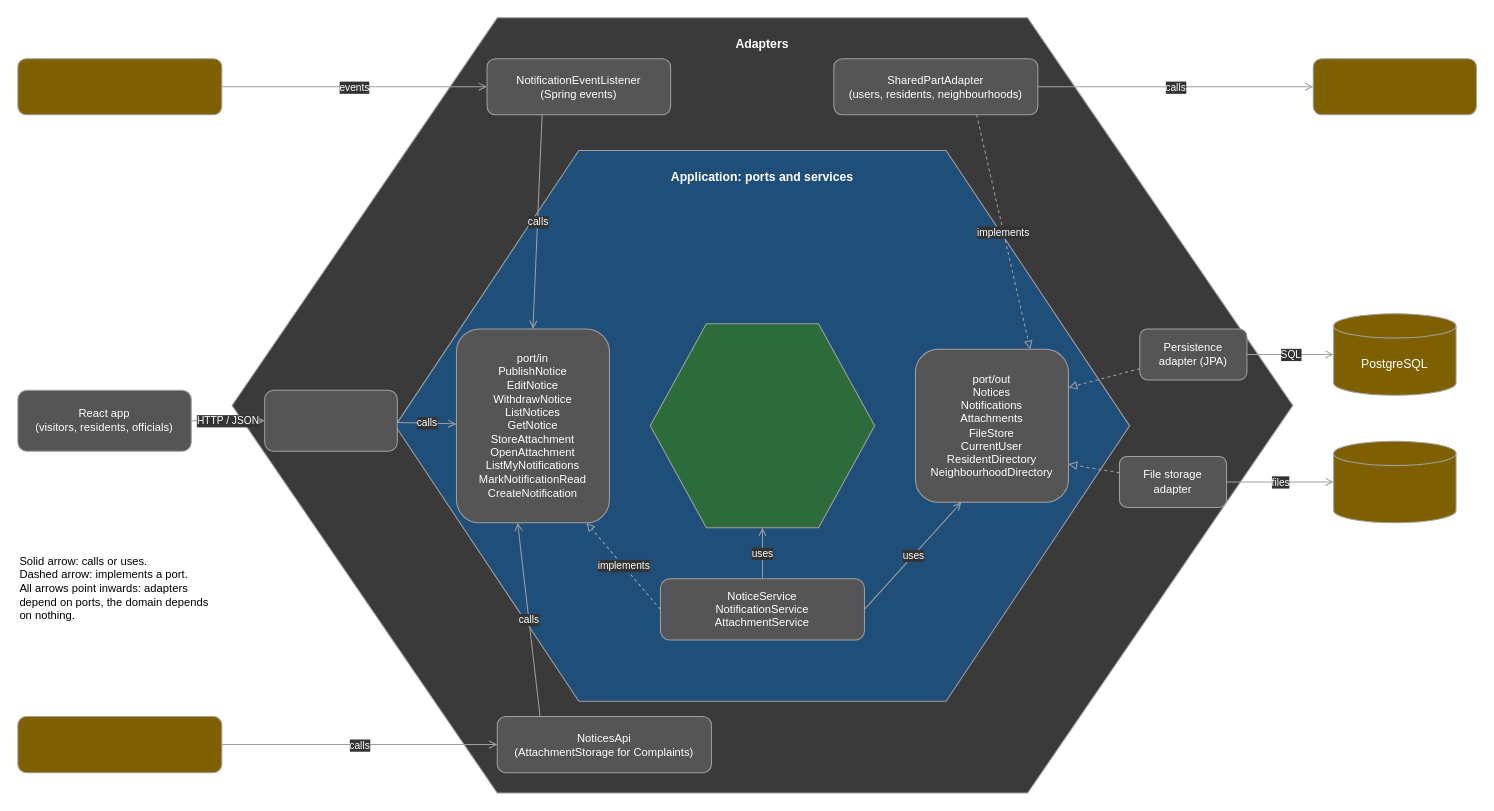
Image size: 1494x811. Some labels were removed from this diagram. Each missing label, with the centre of its shape:
Complaints module: pixel 119 744
Complaints, Neighbourly Help, Polls (publish events): pixel 119 86
Domain Notice Notification Attachment: pixel 762 425
Files on disk: pixel 1394 481
NoticeController NotificationController (REST): pixel 330 420
Shared part (users, neighbourhoods): pixel 1394 86
